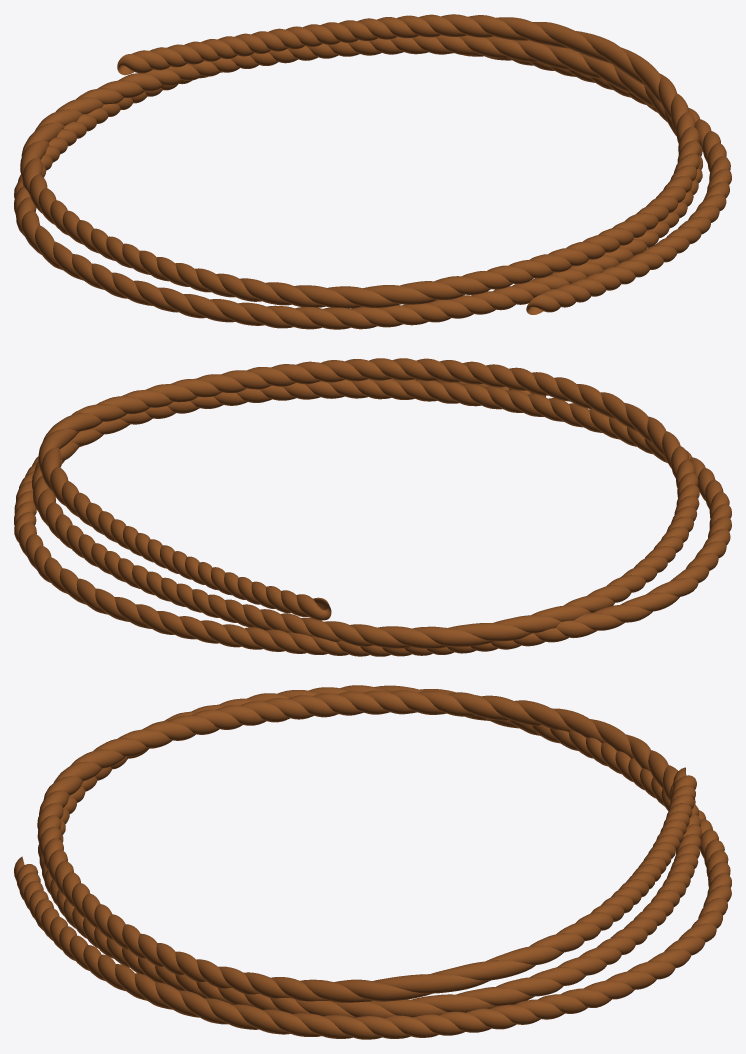
The model's file is Rope01.fbx.
The picture shows the model from 3 angles, top to bottom: view 1: azimuth 30°, elevation 25°; view 2: azimuth 150°, elevation 25°; view 3: azimuth 270°, elevation 25°; orthographic projection. The views are drawn at different scales.
Visible parts, largest first — view 1: Circle; view 2: Circle; view 3: Circle.
Boxes of the visible parts, box(x1,y1,x2,y2) form: Circle: box(14, 14, 731, 329); Circle: box(14, 358, 731, 656); Circle: box(14, 685, 731, 1039).
Size of the model in its own units: 332 by 29.73 by 304.
